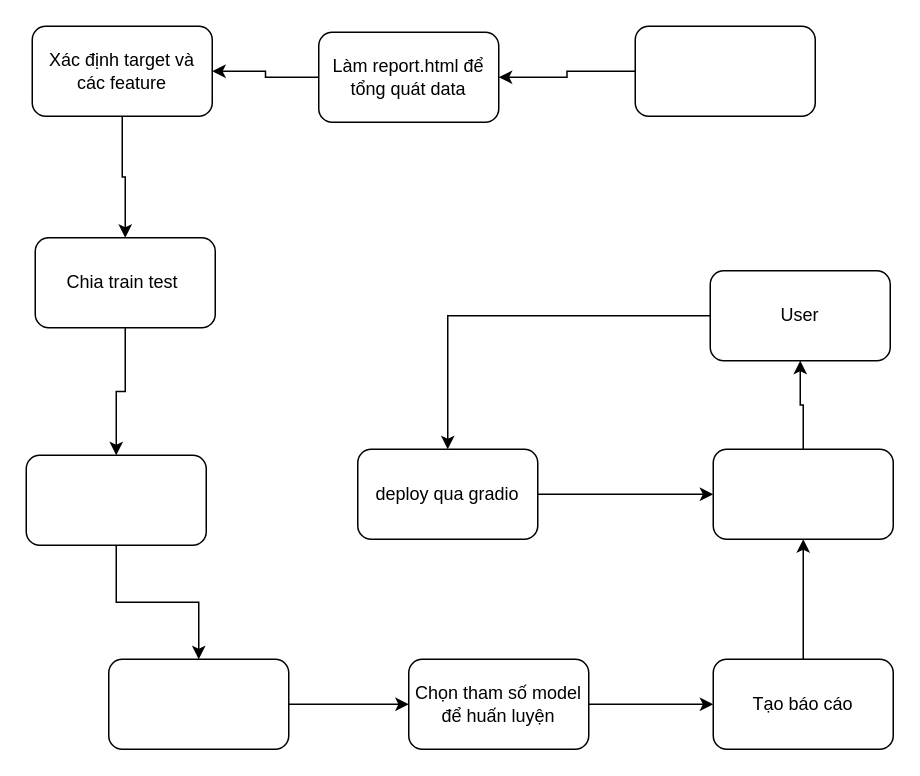
This 920x776 diagram has some shape labels left out. The shapes that lost their labels are listed below. From the top down, each one's centre as x and y in pixels, then its label:
At [724,70]: "MPG-Prediction-System-for-Cars".
At [115,499]: "Phân loại feature để xử lí".
At [802,493]: "Model".
At [198,703]: "Chọn model thịch hợp".
